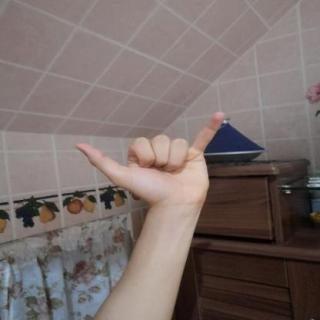YA: (62, 102, 234, 216)
